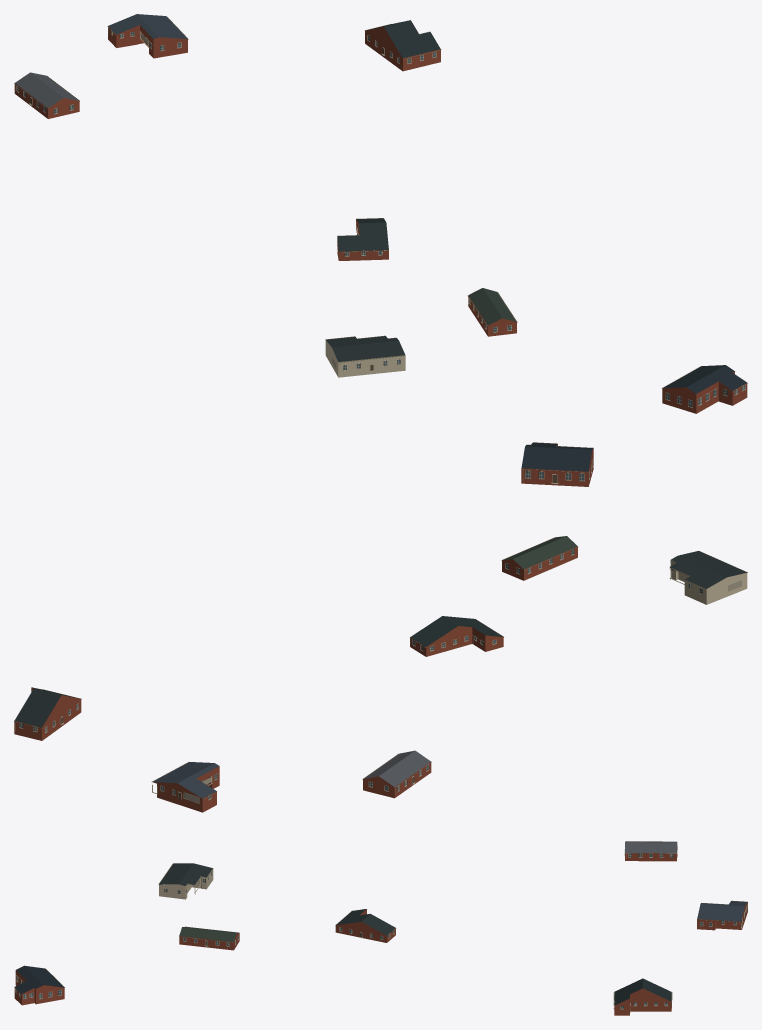
3 views of the same model, one above another, from view 1: azimuth 30°, elevation 25°; view 2: azimuth 150°, elevation 25°; view 3: azimuth 270°, elevation 25° (orthographic). The views are drawn at different scales.
Visible parts, largest first — view 1: -6_2_607922766_3, -6_2_607924442_15; view 2: -6_2_607922766_3, -6_2_607924442_15; view 3: -6_2_607922766_3, -6_2_607924442_15.
Part boxes in pixels (x1,y1,x2,y2): -6_2_607922766_3: [14, 14, 747, 413]; -6_2_607924442_15: [325, 340, 405, 377]; -6_2_607922766_3: [14, 442, 747, 812]; -6_2_607924442_15: [669, 560, 747, 604]; -6_2_607922766_3: [14, 841, 747, 1015]; -6_2_607924442_15: [159, 868, 213, 899].
Size of the model in its own units: 145 by 27.09 by 309.
